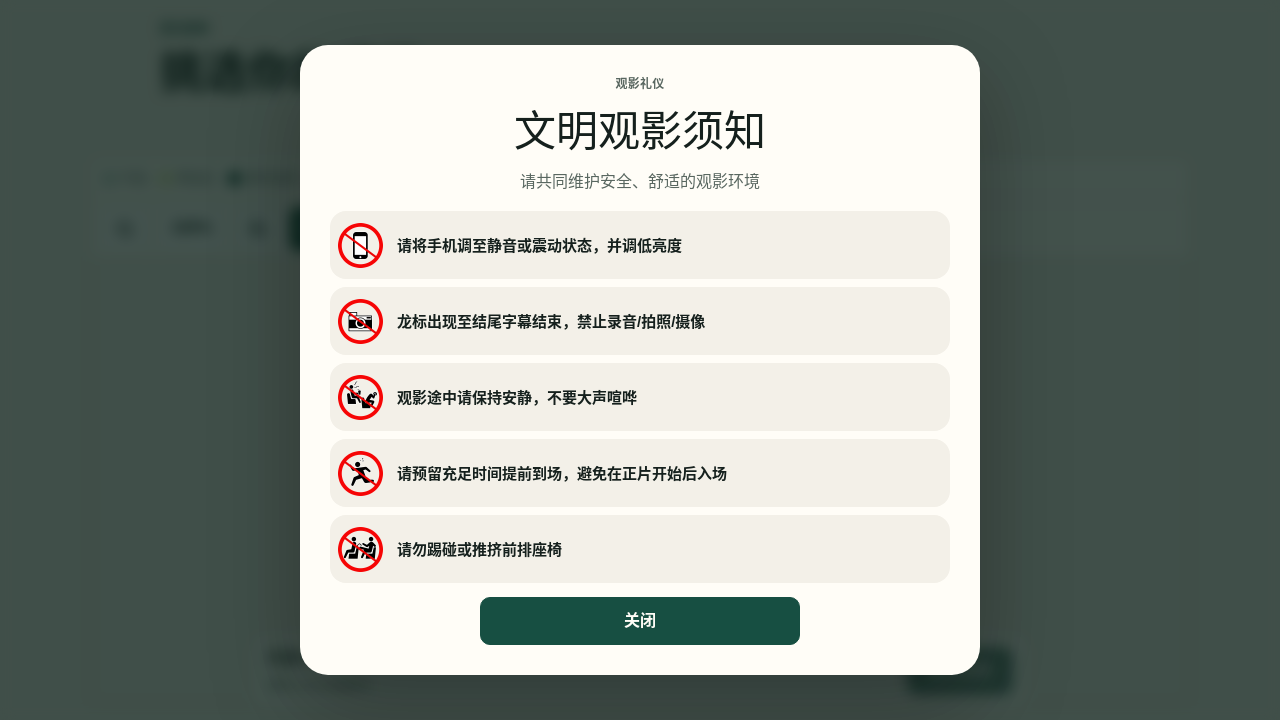
SeatPicker toast › preserves the current selection and unlocks submit after a network failure
Click the button "关闭" at point(640, 621), box x1=480 y1=597 x2=800 y2=645
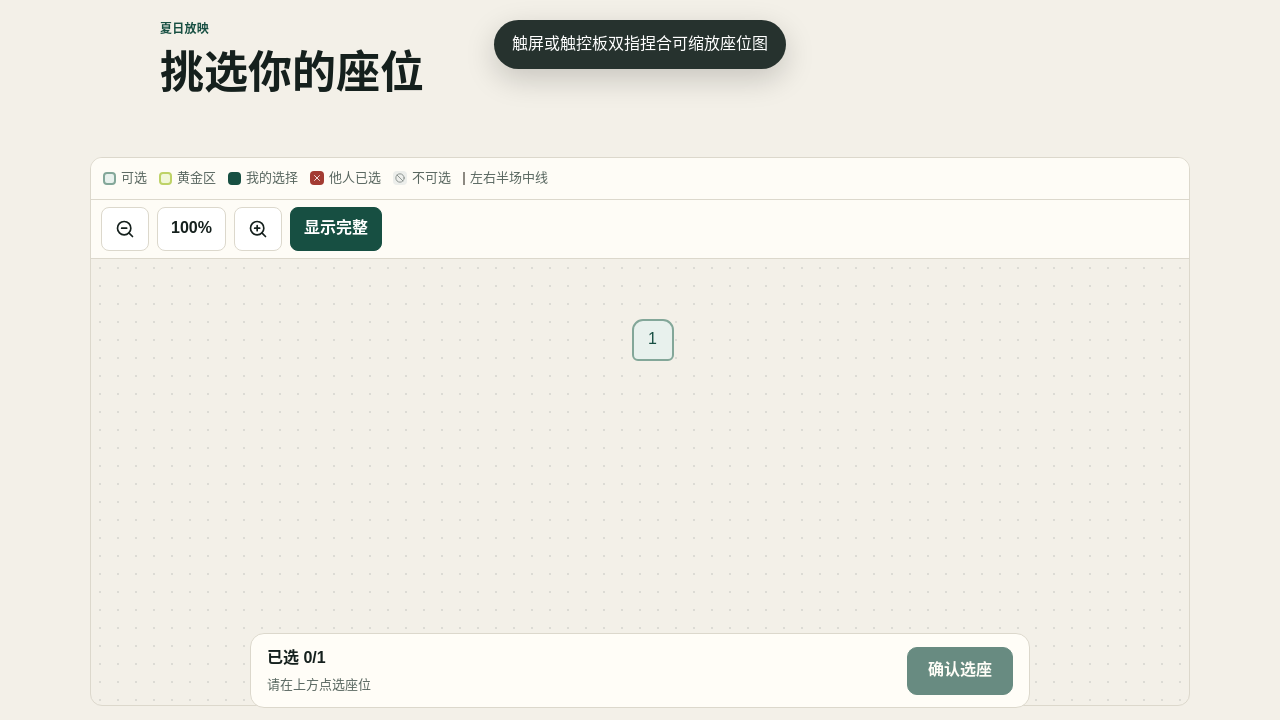
Click the button named "A排1座：可选" at point(652, 340), box x1=632 y1=318 x2=674 y2=360
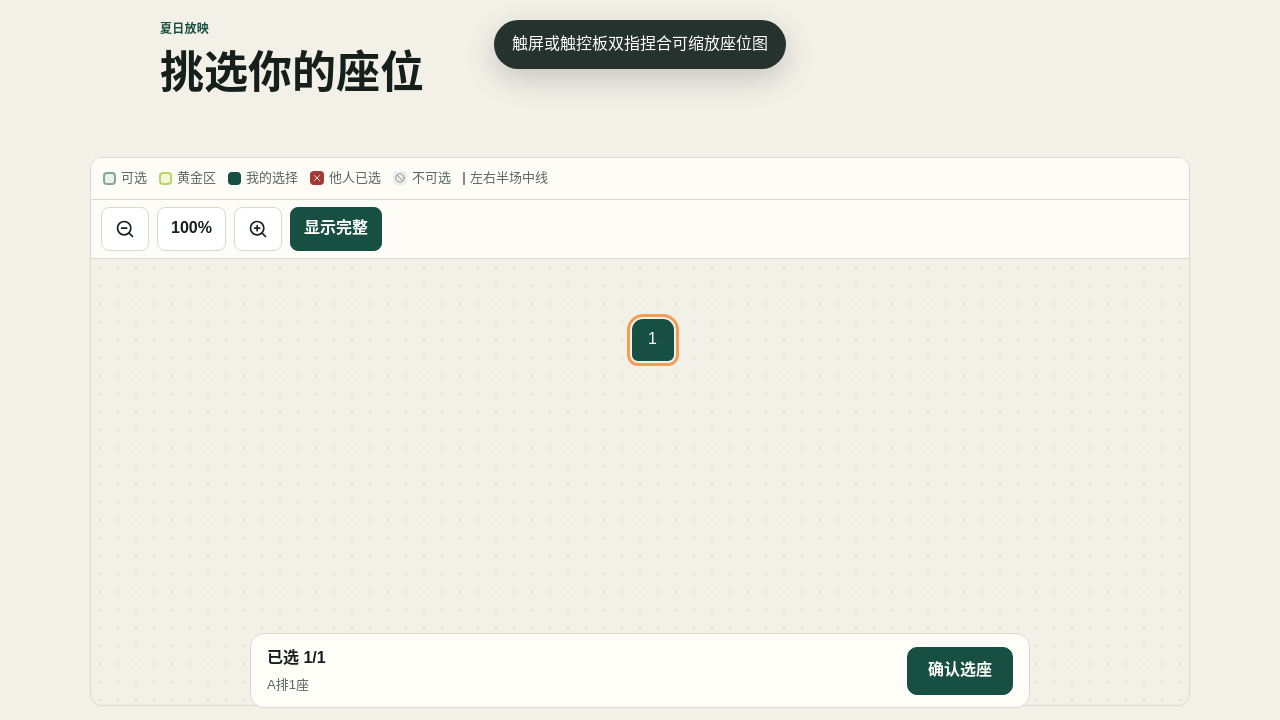
Click the button "确认选座" at point(960, 670), box x1=907 y1=646 x2=1013 y2=694
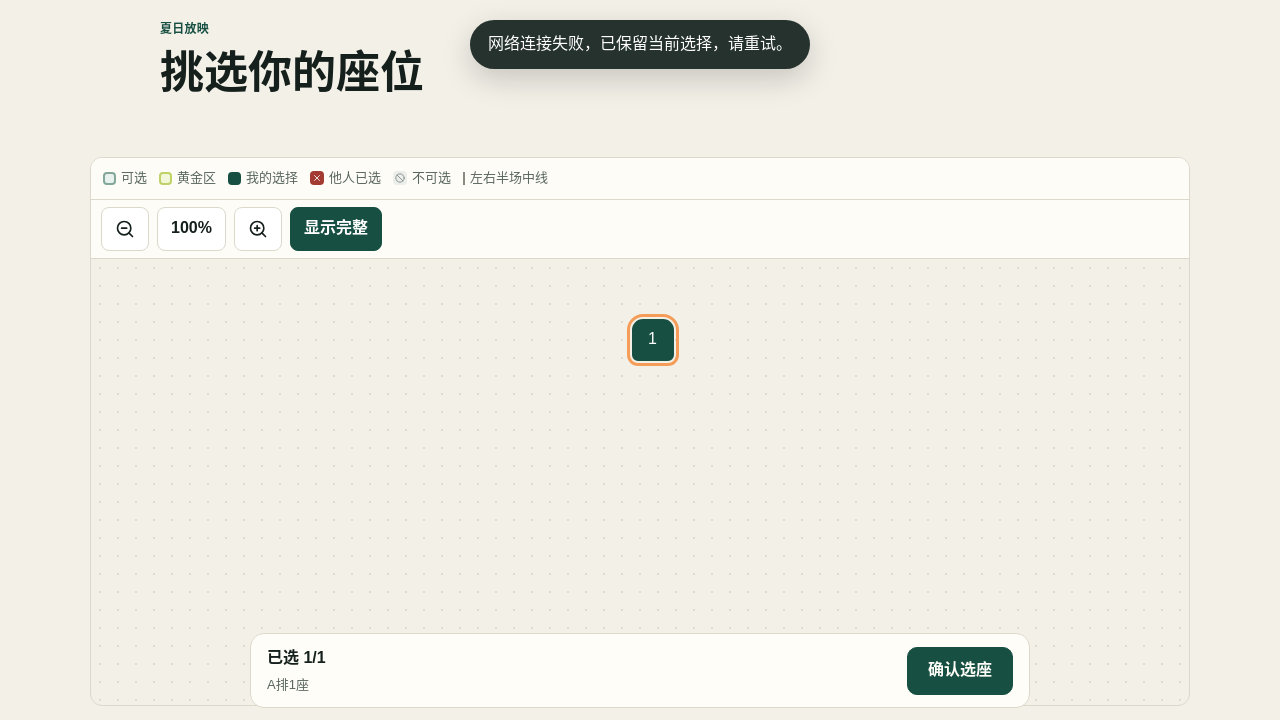
Result: the text "已选 1/1" is shown at x1=267 y1=649 x2=326 y2=666
Result: the button "确认选座" is enabled at x1=907 y1=646 x2=1013 y2=694
Result: the message shows "已保留当前选择" at x1=488 y1=35 x2=792 y2=52
